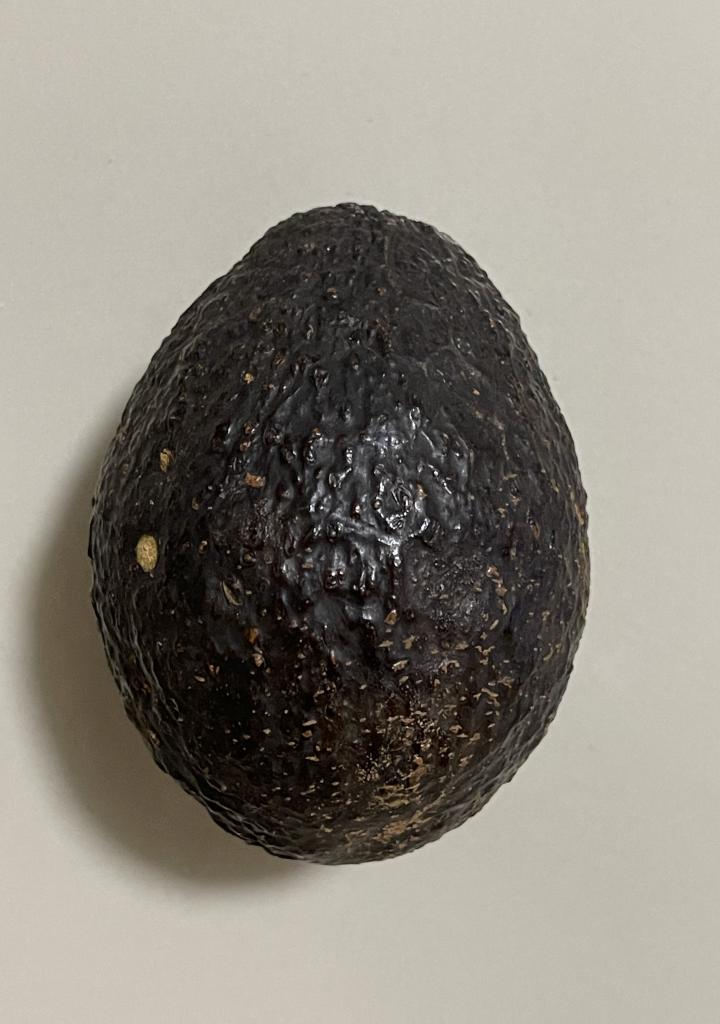Level3: (76, 183, 607, 879)
